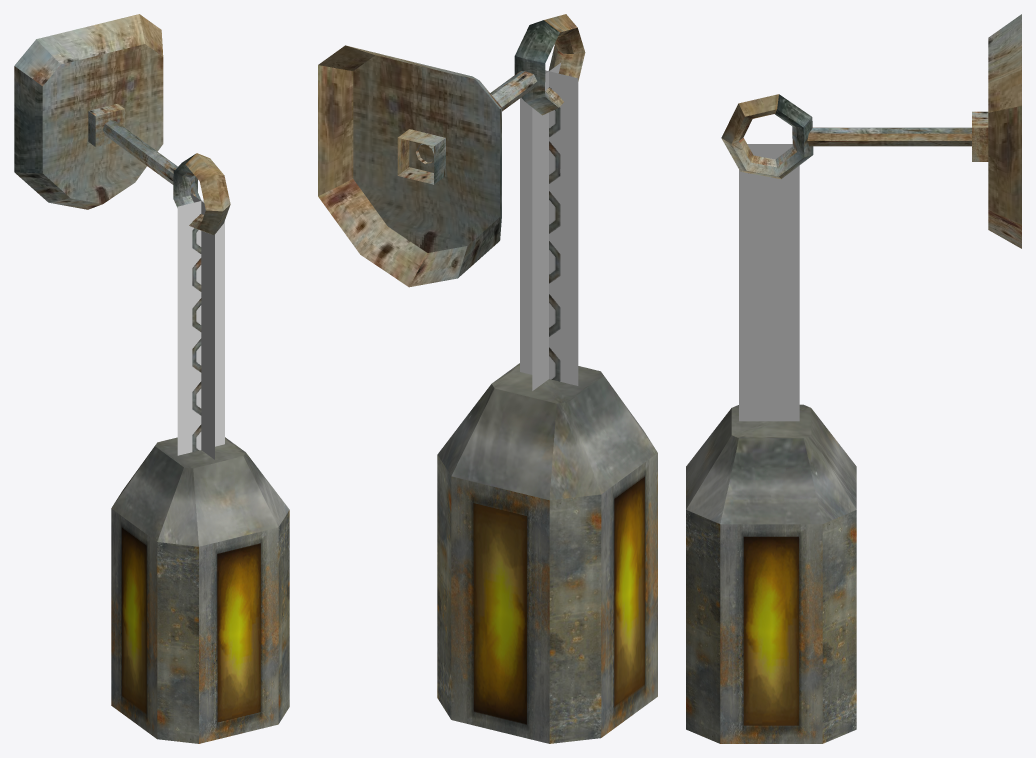
The model's file is light1.fbx.
The picture shows the model from 3 angles, left to right: view 1: azimuth 30°, elevation 25°; view 2: azimuth 150°, elevation 25°; view 3: azimuth 270°, elevation 25°; orthographic projection. The views are drawn at different scales.
Visible parts, largest first — view 1: polySurface1; view 2: polySurface1; view 3: polySurface1.
Boxes of the visible parts, bbox=[...] form: polySurface1: bbox=[14, 14, 289, 743]; polySurface1: bbox=[318, 14, 657, 743]; polySurface1: bbox=[686, 14, 1021, 743].
Size of the model in its own units: 2.5 by 9.68 by 4.43.
